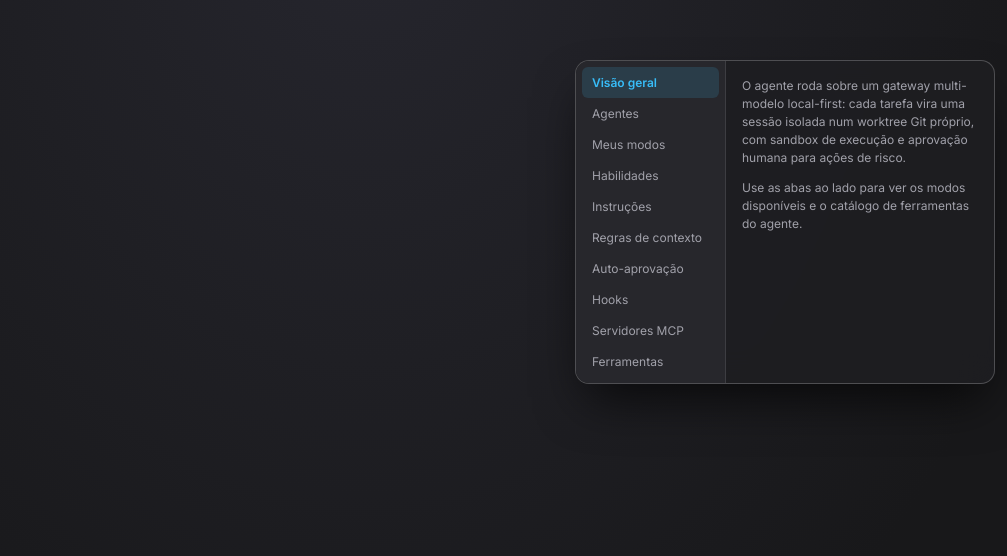
Test: CustomizationsPopover — aba Regras de contexto (Fase 4) › carrega e mostra uma regra existente do projeto
Click the button "Regras de contexto": (650, 238) left=582, top=222, right=719, bottom=253
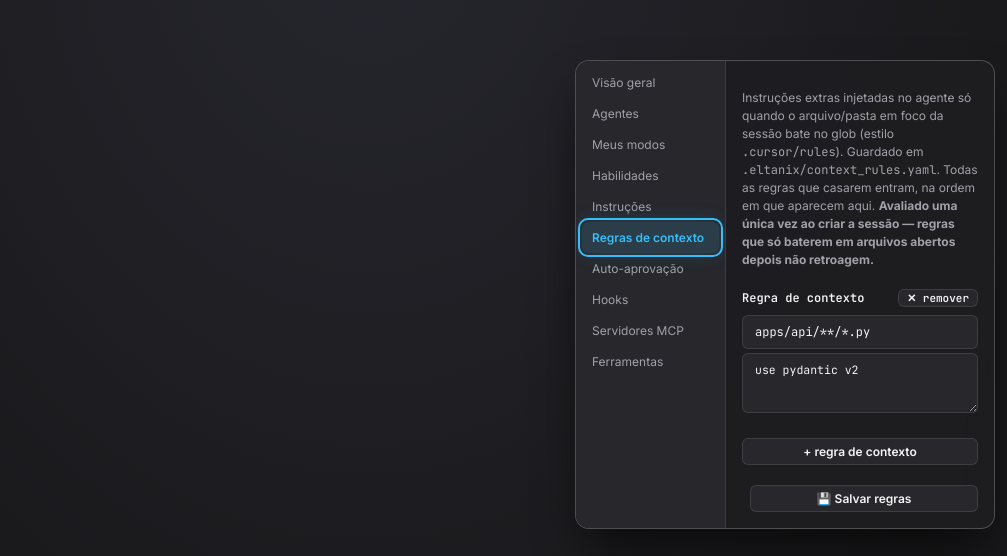
Now the field showing "apps/api/**/*.py" is shown, box left=742, top=315, right=978, bottom=349
Now the text box showing "use pydantic v2" is shown, box left=742, top=353, right=978, bottom=413
